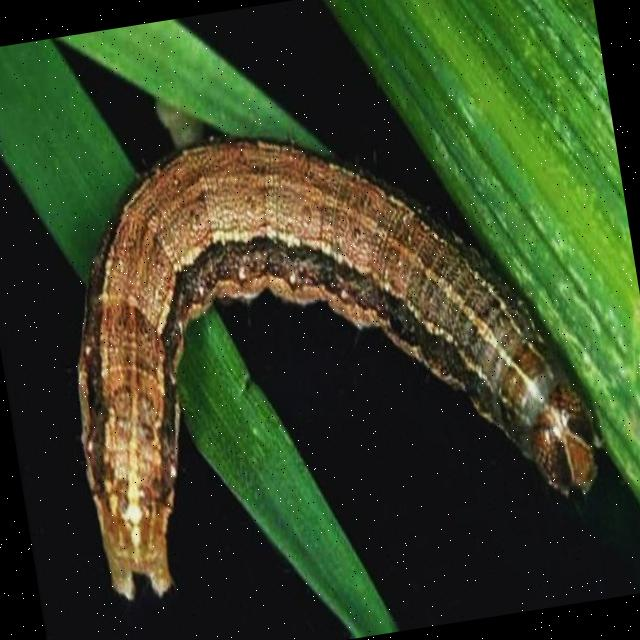worm: (37, 82, 621, 608)
